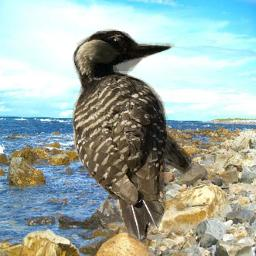Woodpecker: (72, 28, 197, 246)
